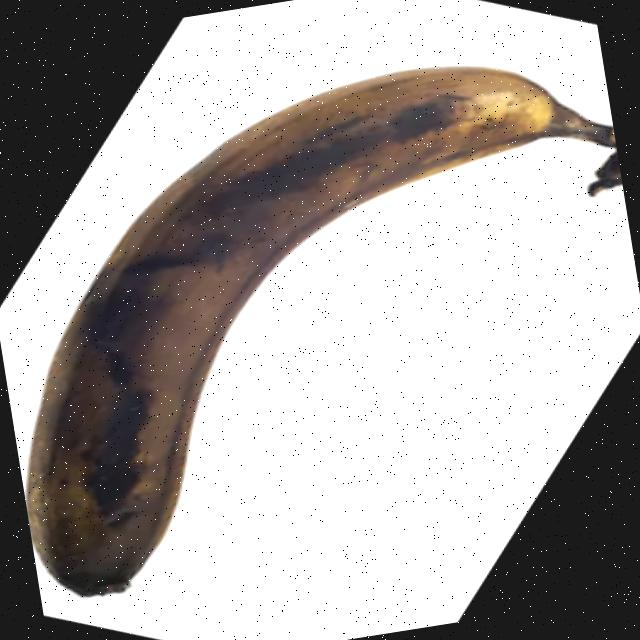Rotten: (0, 38, 640, 606)
